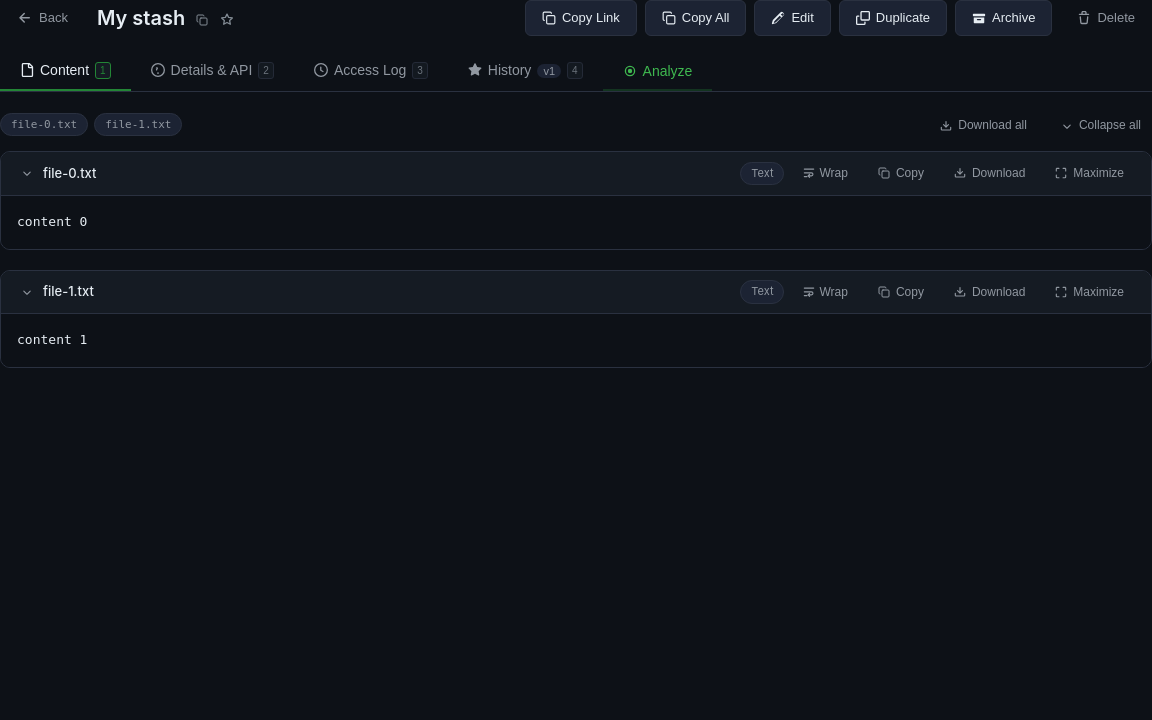
Test: StashViewer per-file maximize › turns the file box into a modal dialog and flips the button to Restore
Click the button with aria-label "Maximize file-1.txt" at {"x": 1090, "y": 292}, box [1044,279,1135,305]
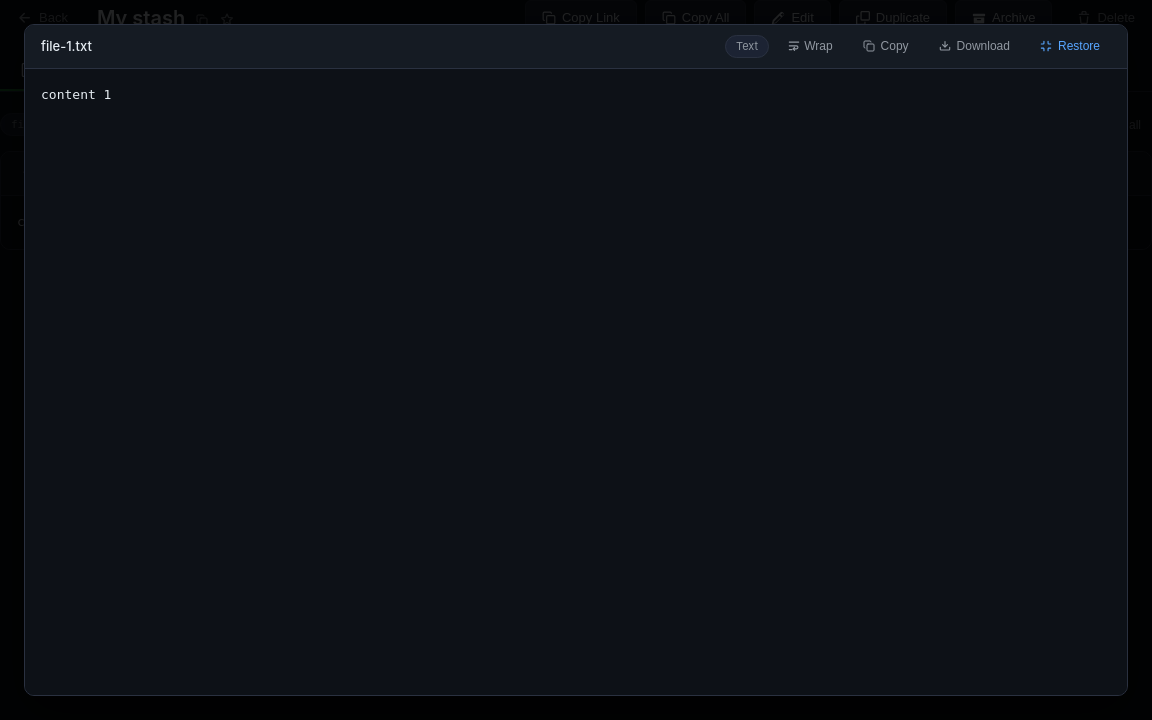
Expected: the button with aria-label "Maximize file-0.txt" is shown, [1044,160,1135,187]
Expected: the button with aria-label "Restore file-1.txt" reads "Restore", [1029,33,1111,60]
